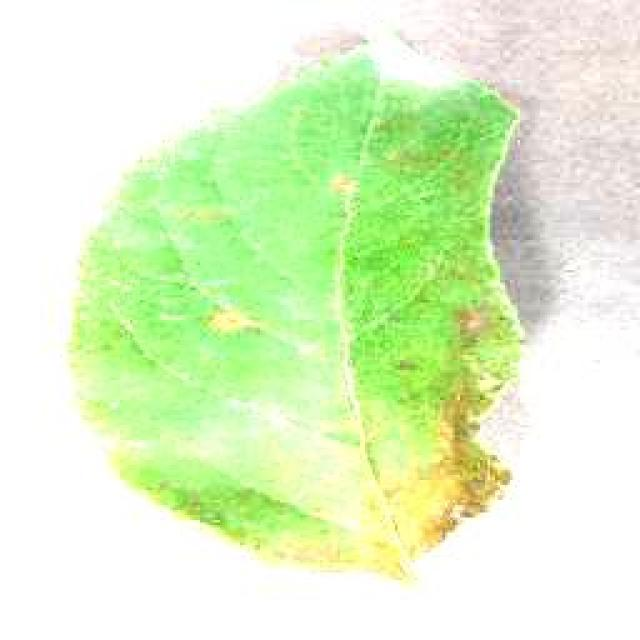apple rust disease: (65, 18, 527, 582)
